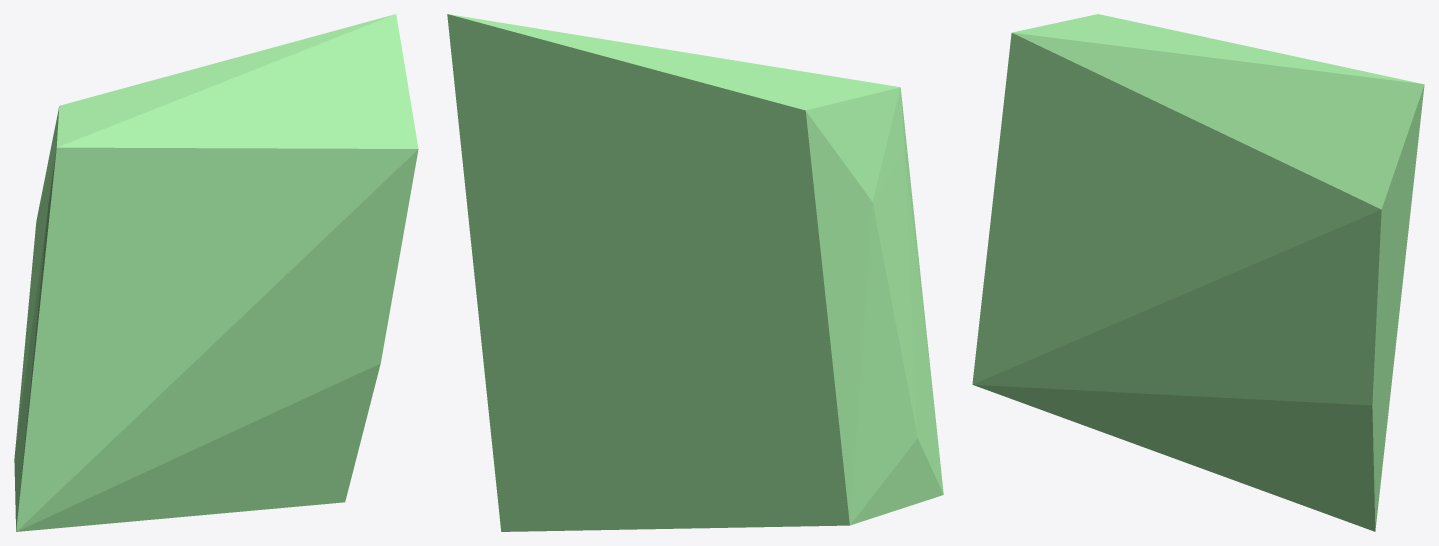
File: UMIRobot_UMIRobot_link_4_convex_coll_18.dae
The picture shows the model from 3 angles, left to right: view 1: azimuth 30°, elevation 25°; view 2: azimuth 150°, elevation 25°; view 3: azimuth 330°, elevation 25°; orthographic projection. The views are drawn at different scales.
Visible parts, largest first — view 1: node; view 2: node; view 3: node.
Part boxes in pixels (x1,y1,x2,y2): node: (14, 14, 418, 531); node: (447, 14, 943, 531); node: (972, 14, 1424, 531).
Size of the model in its own units: 0.0224 by 0.024 by 0.00403.
